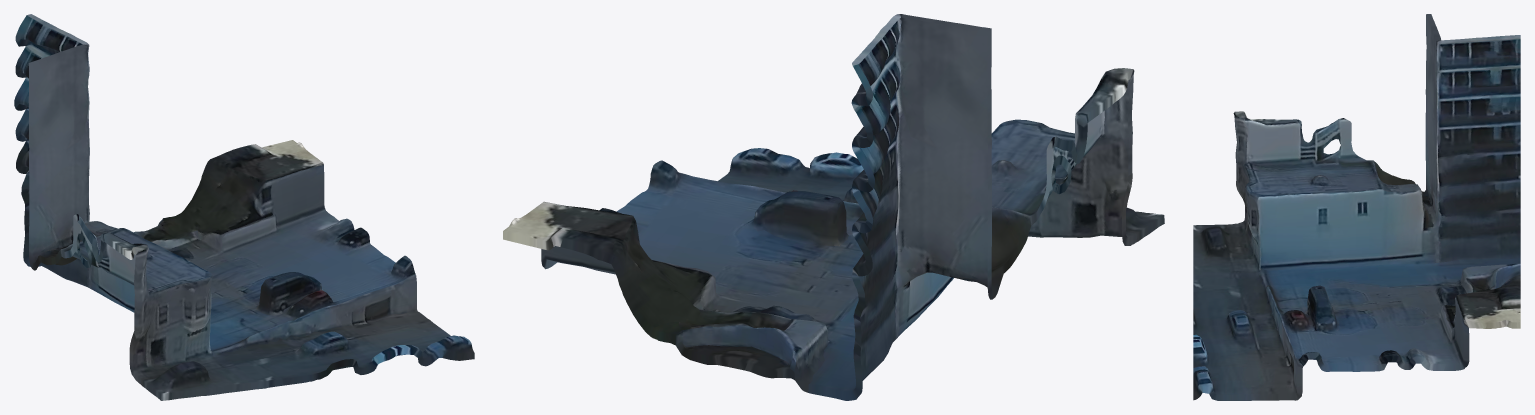
The model's file is z20-167731-405195-h0-yup-uvflip-v3-world.glb.
3 views of the same model, side by side, from view 1: azimuth 30°, elevation 25°; view 2: azimuth 150°, elevation 25°; view 3: azimuth 270°, elevation 25° (orthographic). The views are drawn at different scales.
Size of the model in its own units: 30.2 by 25.44 by 30.32.
1 material, 1 textured.
